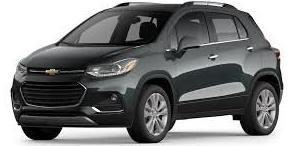Crossovers: (12, 3, 284, 143)
